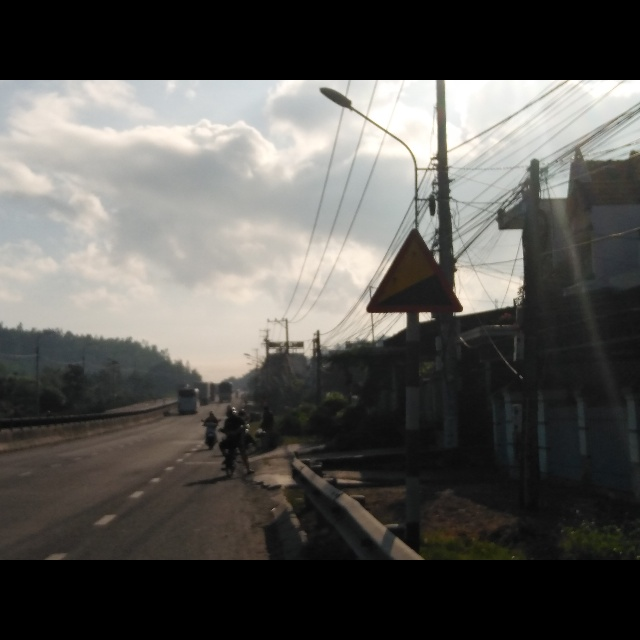Dốc lên nguy hiểm: (368, 228, 464, 313)
